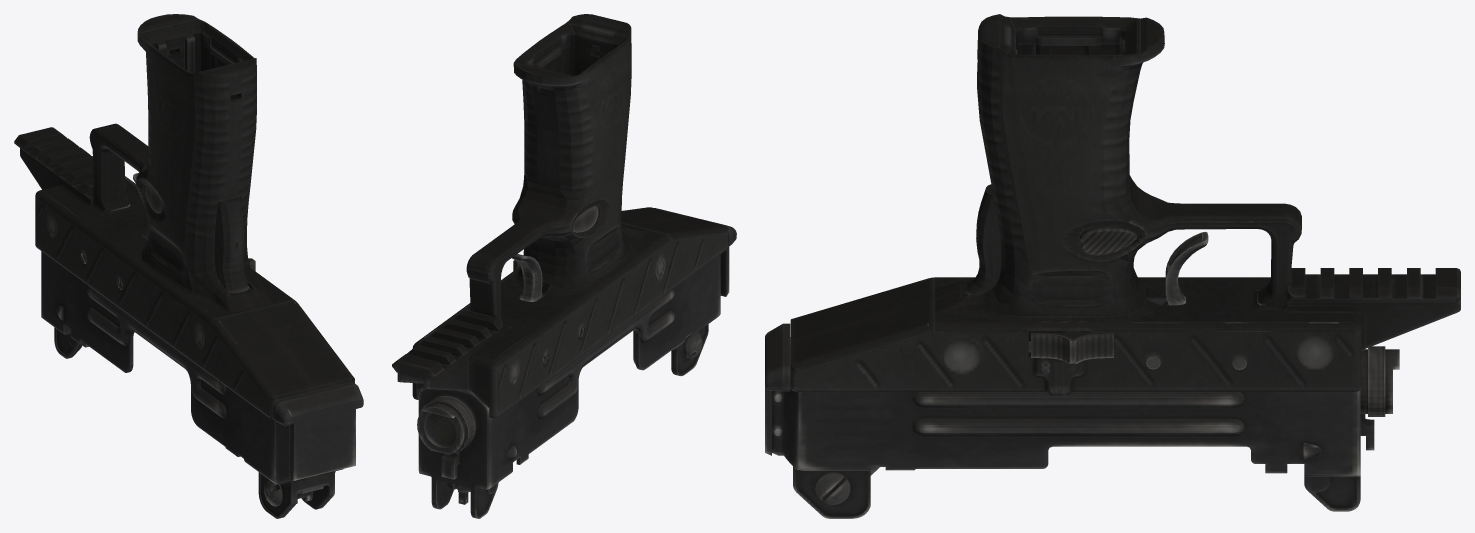
3 renders of one model, left to right at view 1: azimuth 30°, elevation 25°; view 2: azimuth 150°, elevation 25°; view 3: azimuth 270°, elevation 25°, orthographic. The views are drawn at different scales.
Parts seen in each view (by area): view 1: TW_6680304edadb7aa61d00cef0_PZ_Import; view 2: TW_6680304edadb7aa61d00cef0_PZ_Import; view 3: TW_6680304edadb7aa61d00cef0_PZ_Import.
Boxes of the visible parts, x1,y1,x2,y2 form: TW_6680304edadb7aa61d00cef0_PZ_Import: (14,14,363,518); TW_6680304edadb7aa61d00cef0_PZ_Import: (392,14,736,518); TW_6680304edadb7aa61d00cef0_PZ_Import: (765,14,1460,518).
Size of the model in its own units: 0.0282 by 0.1399 by 0.1053.
Materials: 1 (1 with a texture image).
